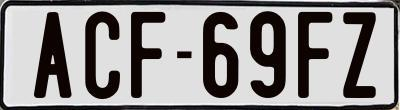6: (202, 9, 240, 97)
9: (249, 11, 286, 98)
A: (33, 9, 73, 99)
C: (83, 8, 118, 99)
F: (298, 11, 337, 103), (129, 11, 164, 98)
Z: (341, 12, 376, 98)
